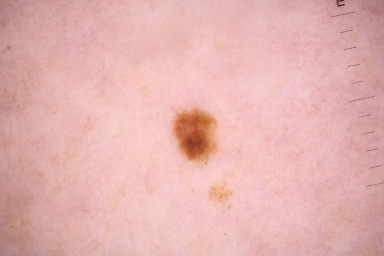nevus: (174, 109, 215, 165)
